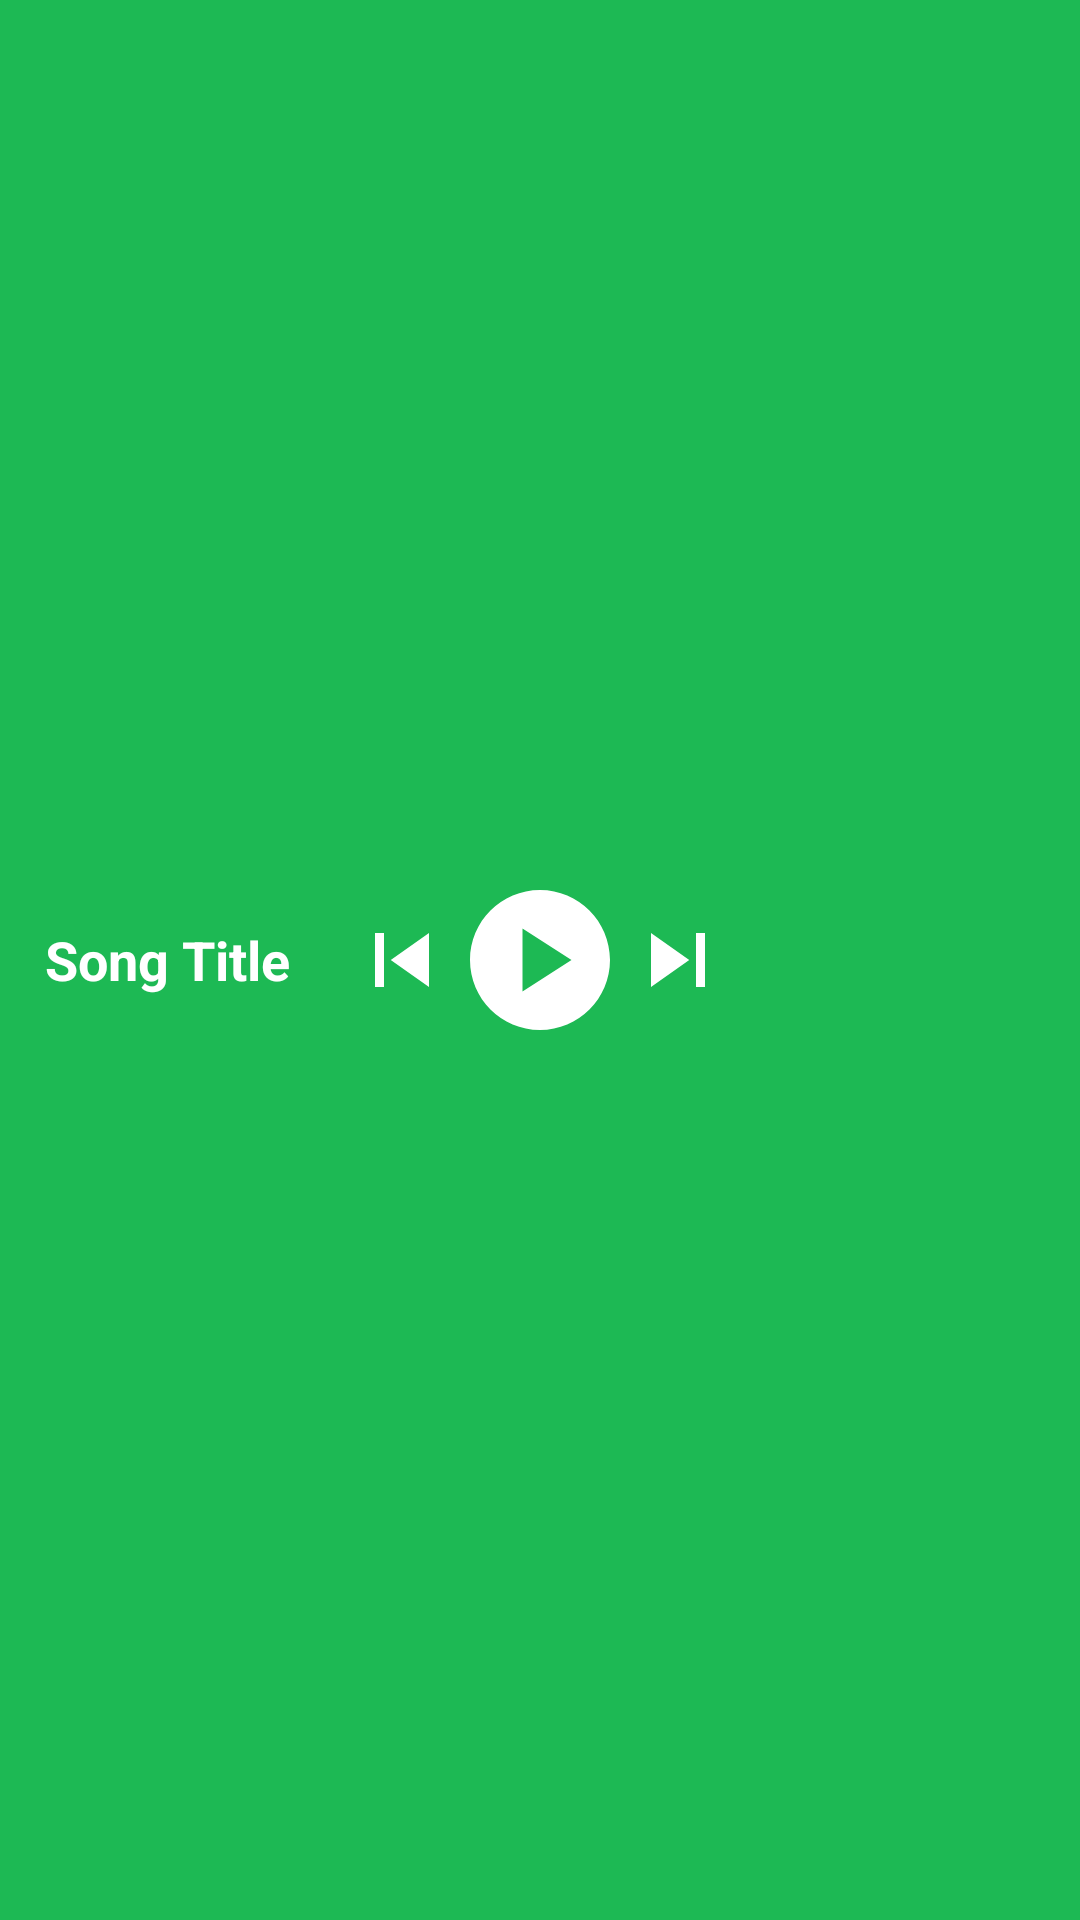

Where icons sit on this 1080 x 1920 app screen, as box(x1, y1, x2, y2):
playwhite: box(470, 890, 610, 1030)
